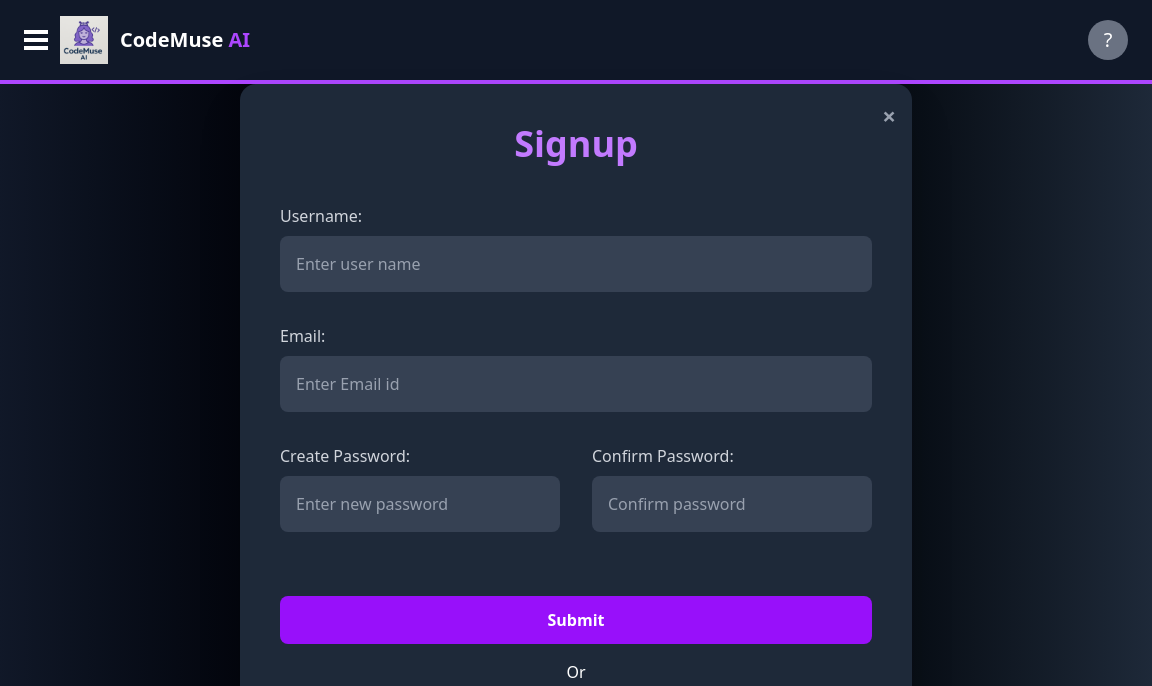
Scenario: Signup Page › shows email error message for invalid email
Type "invalid-email" into the field with placeholder "Enter Email id" at coordinates (576, 384), box x1=280 y1=356 x2=872 y2=412
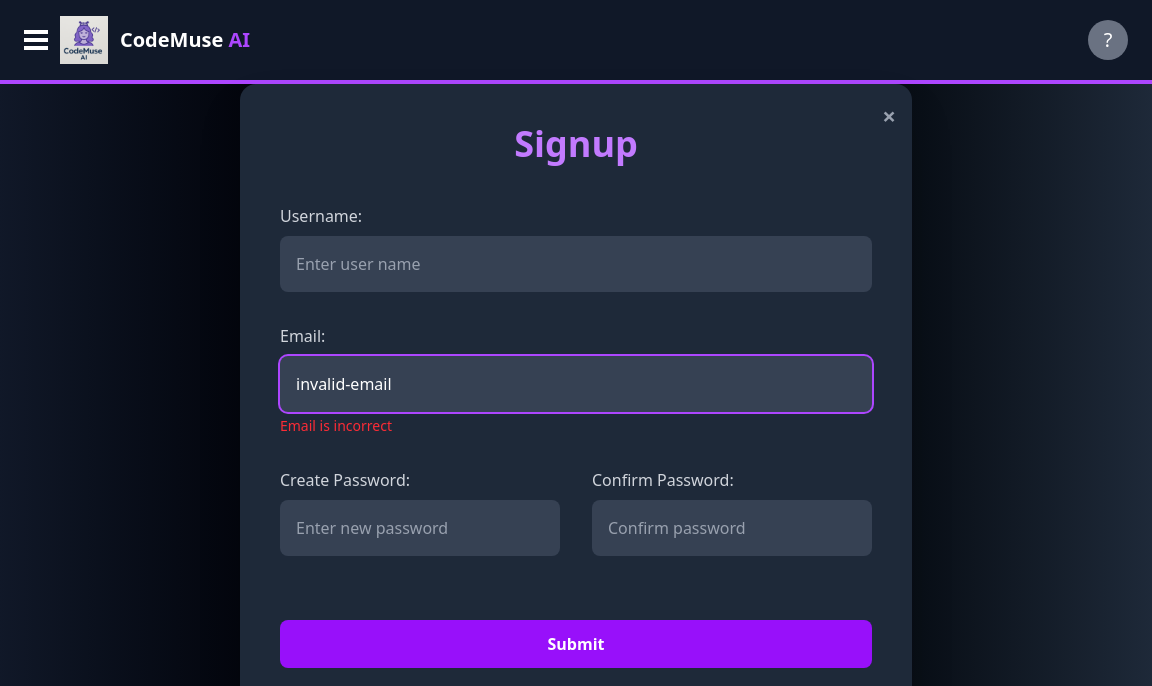
Now the text "Email is incorrect" is shown, box x1=280 y1=416 x2=392 y2=435
Replace the text in the field with placeholder "Enter Email id" with "test@gmail.com" at coordinates (576, 384), box x1=280 y1=356 x2=872 y2=412
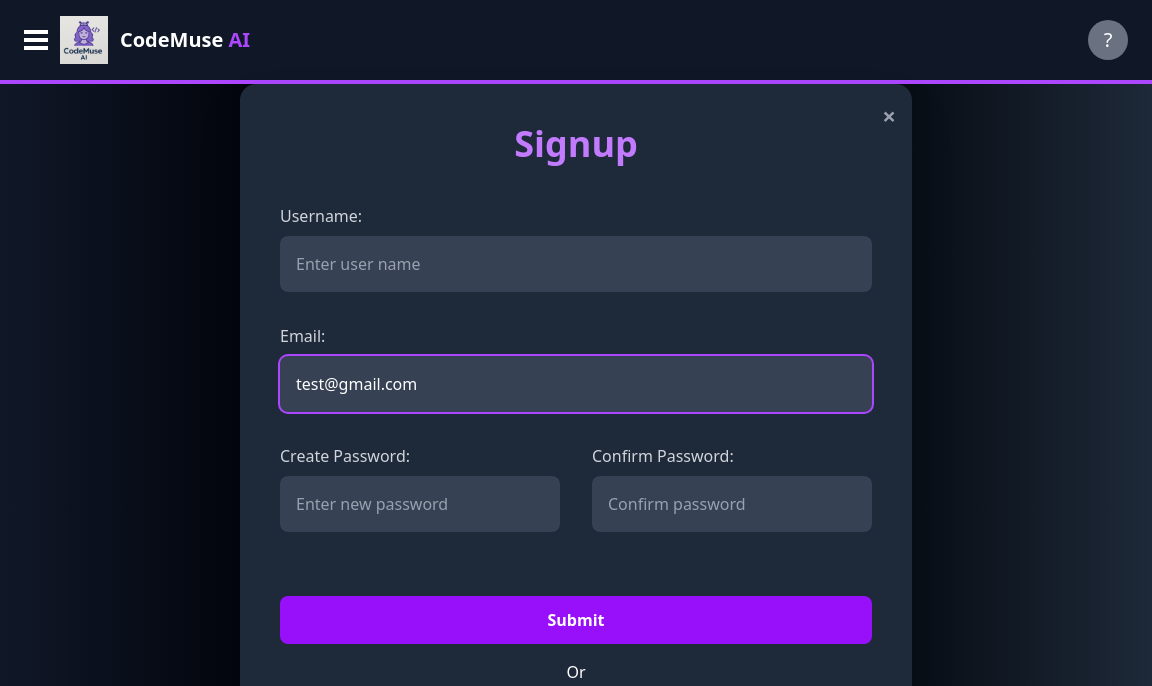
Now the text "Email is incorrect" is gone
